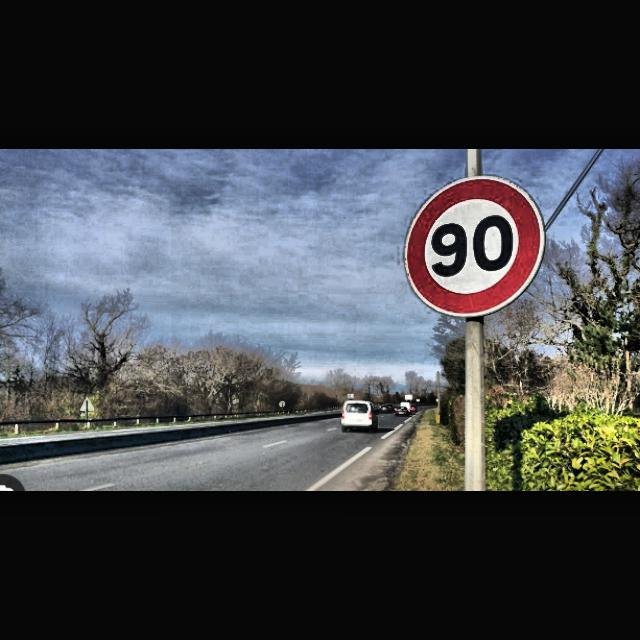speed_90: (404, 176, 546, 318)
